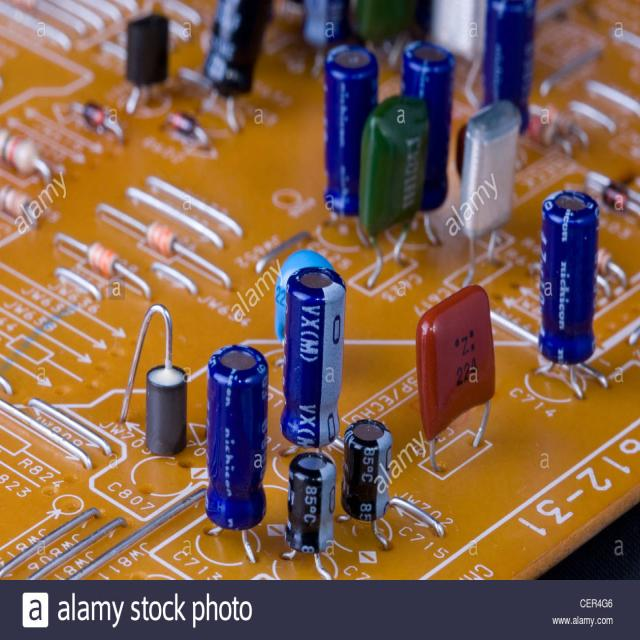Capacitor: (536, 190, 608, 399), (416, 284, 495, 471), (205, 345, 269, 562), (446, 100, 521, 285), (338, 420, 444, 550), (359, 96, 429, 288), (180, 0, 271, 133), (281, 267, 346, 447), (401, 41, 455, 245), (119, 305, 188, 455), (325, 44, 378, 214), (482, 0, 536, 131), (281, 452, 336, 579), (126, 15, 169, 113)
Resistor: (96, 203, 231, 289), (55, 234, 151, 298), (528, 103, 589, 155), (0, 128, 51, 184), (585, 171, 640, 216), (70, 102, 124, 142), (166, 112, 210, 148), (0, 186, 36, 227)
